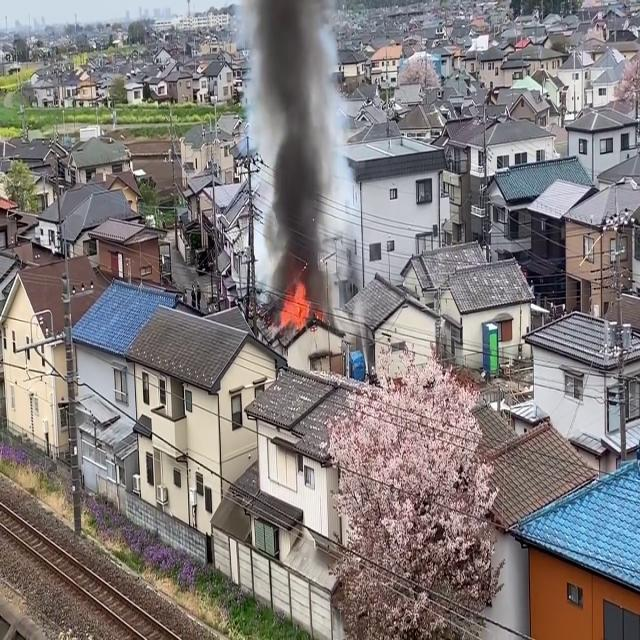Fire: (276, 278, 314, 332)
Smoke: (248, 0, 350, 298)
